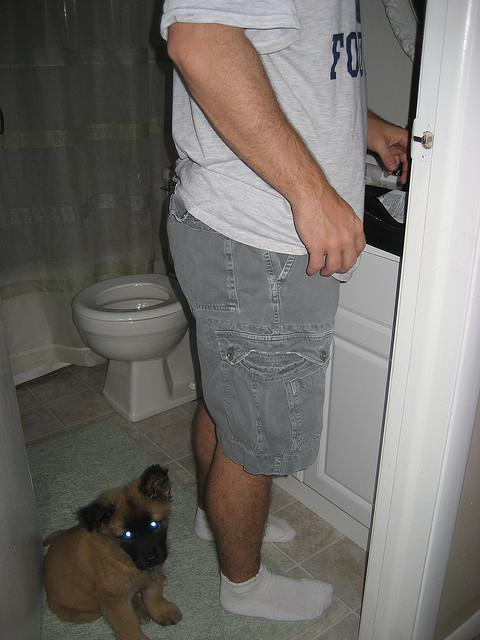Ducha: (0, 8, 237, 375)
Otro Obstaculo: (37, 464, 195, 639)
